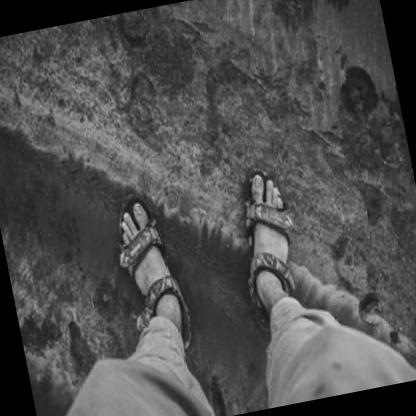ankle: (177, 301, 182, 309), (257, 281, 262, 286)
heel: (186, 342, 191, 348), (266, 327, 269, 331)
left_foot: (229, 172, 311, 336)
pinky: (279, 204, 284, 210), (122, 245, 125, 252)
right_foot: (112, 193, 201, 361)
toe: (256, 182, 262, 189), (137, 207, 143, 214)
